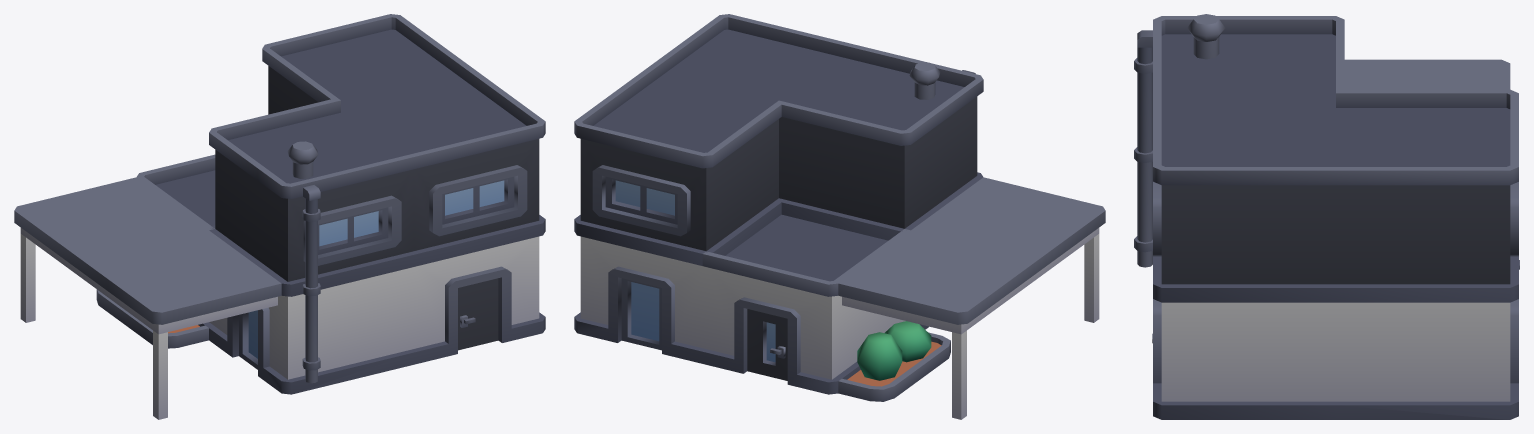
The model's file is villaB.glb.
3 renders of one model, left to right at view 1: azimuth 30°, elevation 25°; view 2: azimuth 150°, elevation 25°; view 3: azimuth 270°, elevation 25°, orthographic. The views are drawn at different scales.
Visible parts, largest first — view 1: villaB; view 2: villaB; view 3: villaB.
Part boxes in pixels (x1,y1,x2,y2): villaB: [14, 14, 545, 419]; villaB: [574, 14, 1105, 419]; villaB: [1134, 14, 1519, 419].
Size of the model in its own units: 14 by 7.7 by 10.
